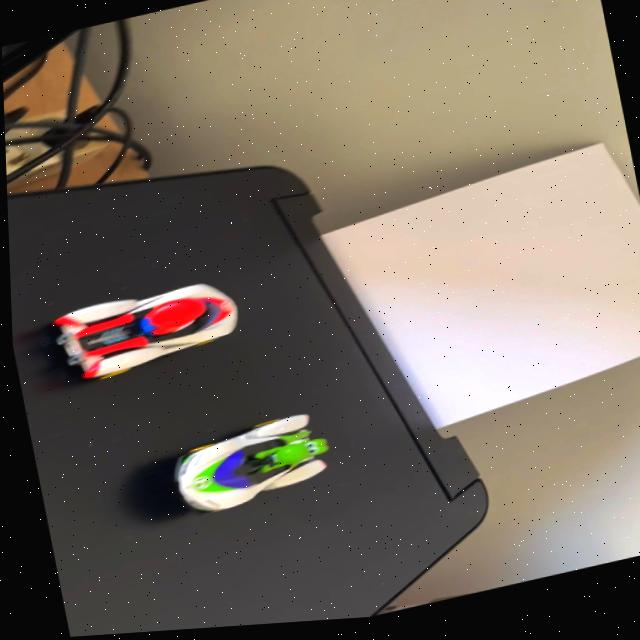mario: (32, 267, 262, 394)
yoshi: (146, 403, 345, 532)
